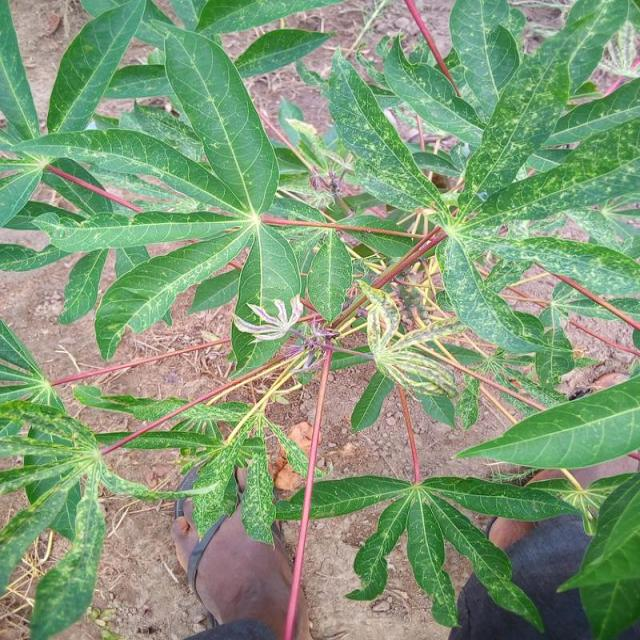cassava leaf: (0, 0, 638, 636), (162, 22, 280, 218), (454, 374, 639, 471), (228, 220, 302, 378)
